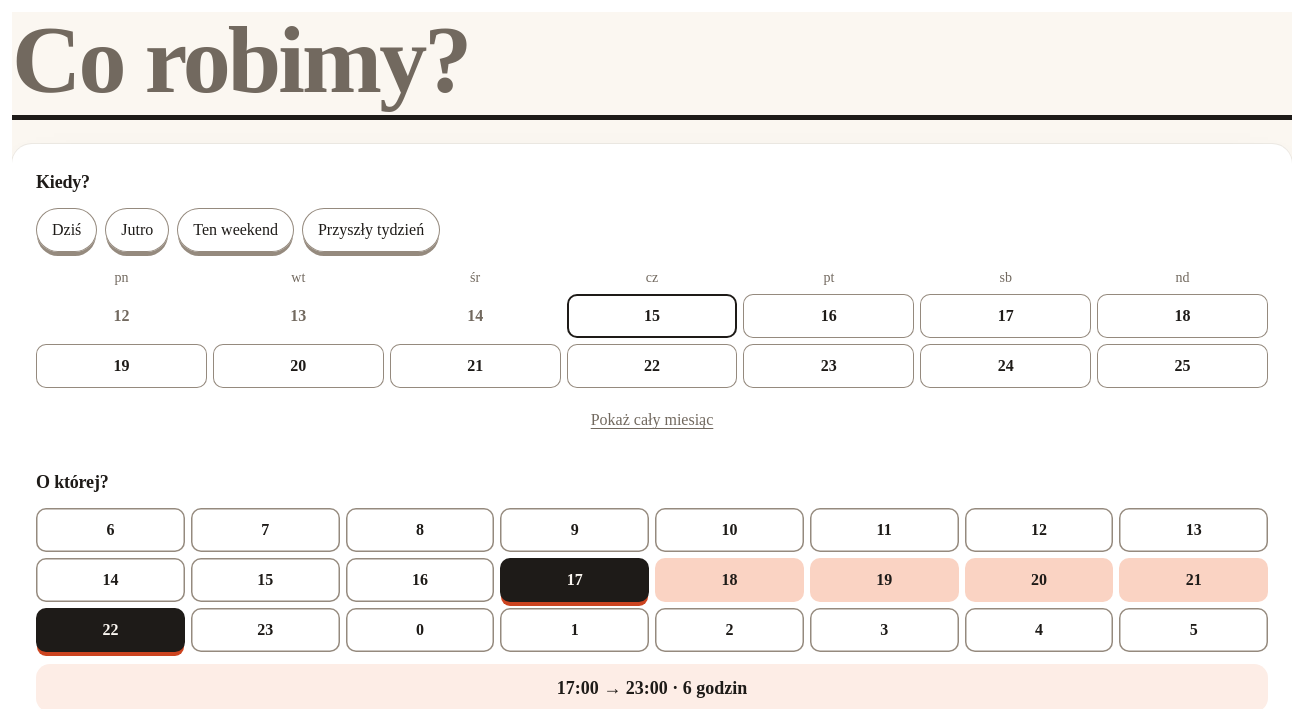
Test: Kiedy? › Pokaż cały miesiąc shows six weeks of dates
This screenshot has width=1304, height=709.
Click the button "Pokaż cały miesiąc".
click(652, 420)  # box top-left (591, 396), bottom-right (713, 444)
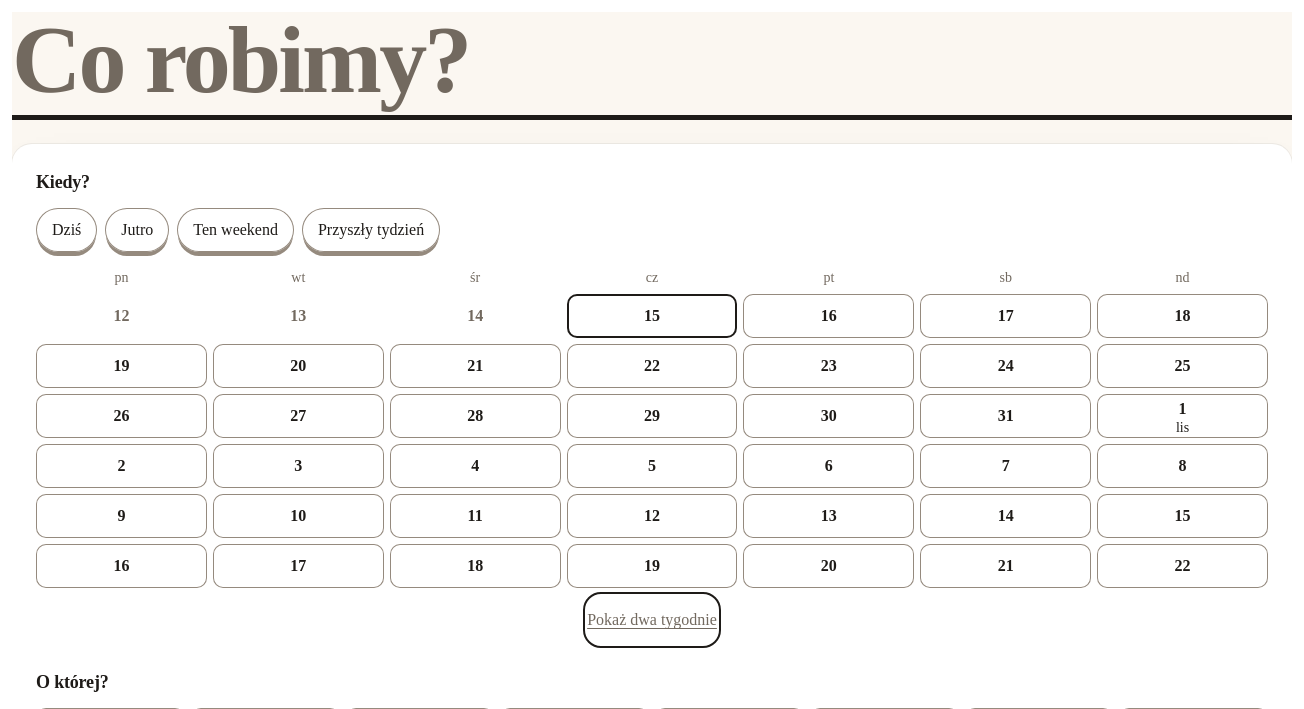
Expected: the button named "niedziela, 22 listopada" is shown, top-left (1097, 544), bottom-right (1268, 588)
